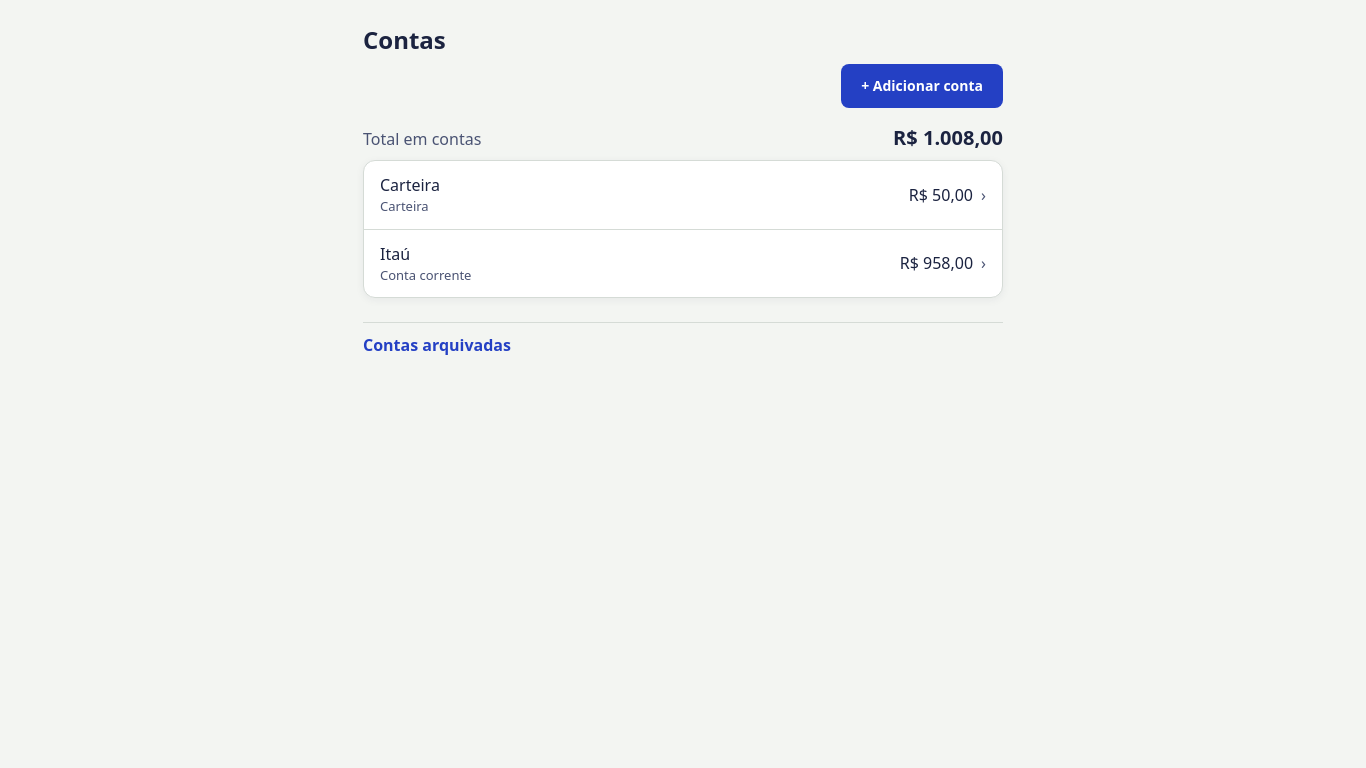
it: account options open in a sheet
Click the button with aria-label "Opções de Itaú": point(395, 254) [364, 230, 1002, 297]
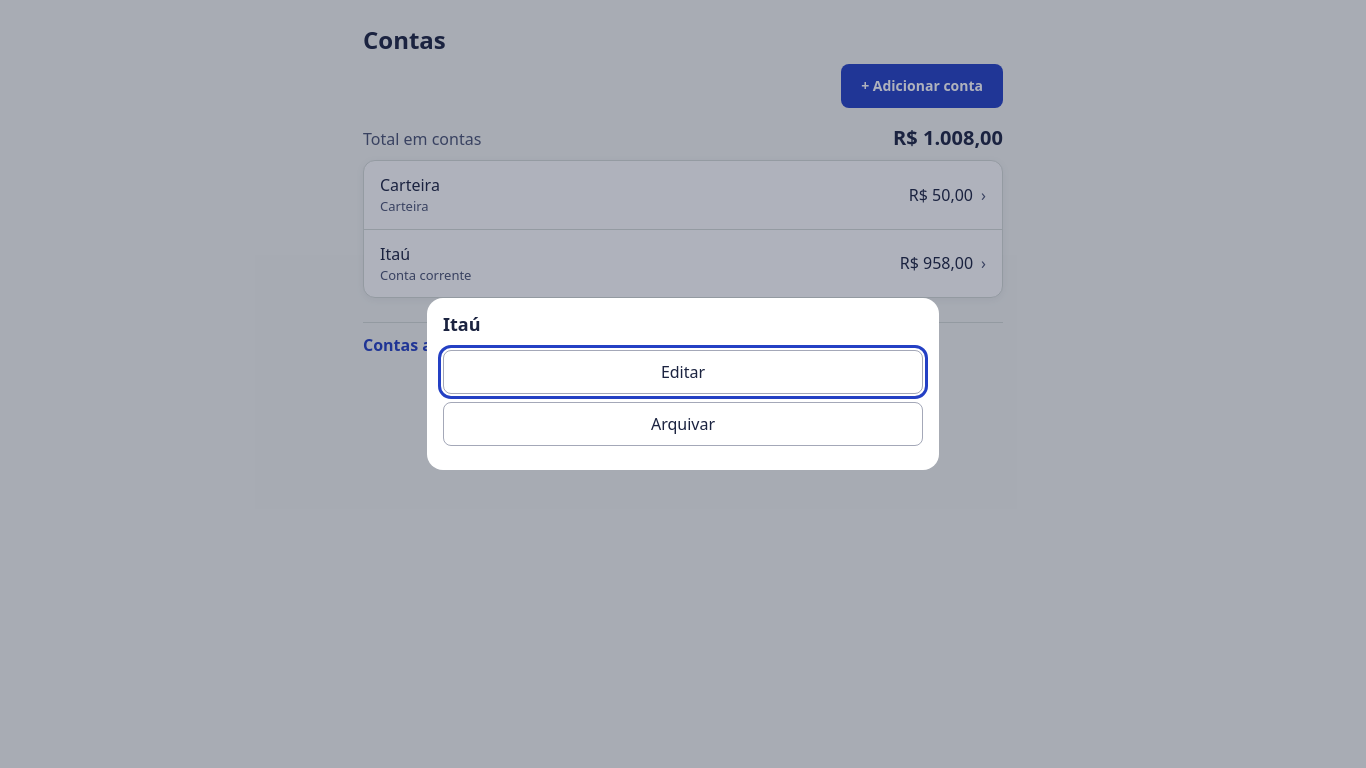
Check: the button "Editar" is shown, box [443, 350, 923, 394]
Check: the button "Arquivar" is shown, box [443, 402, 923, 446]
Press Escape
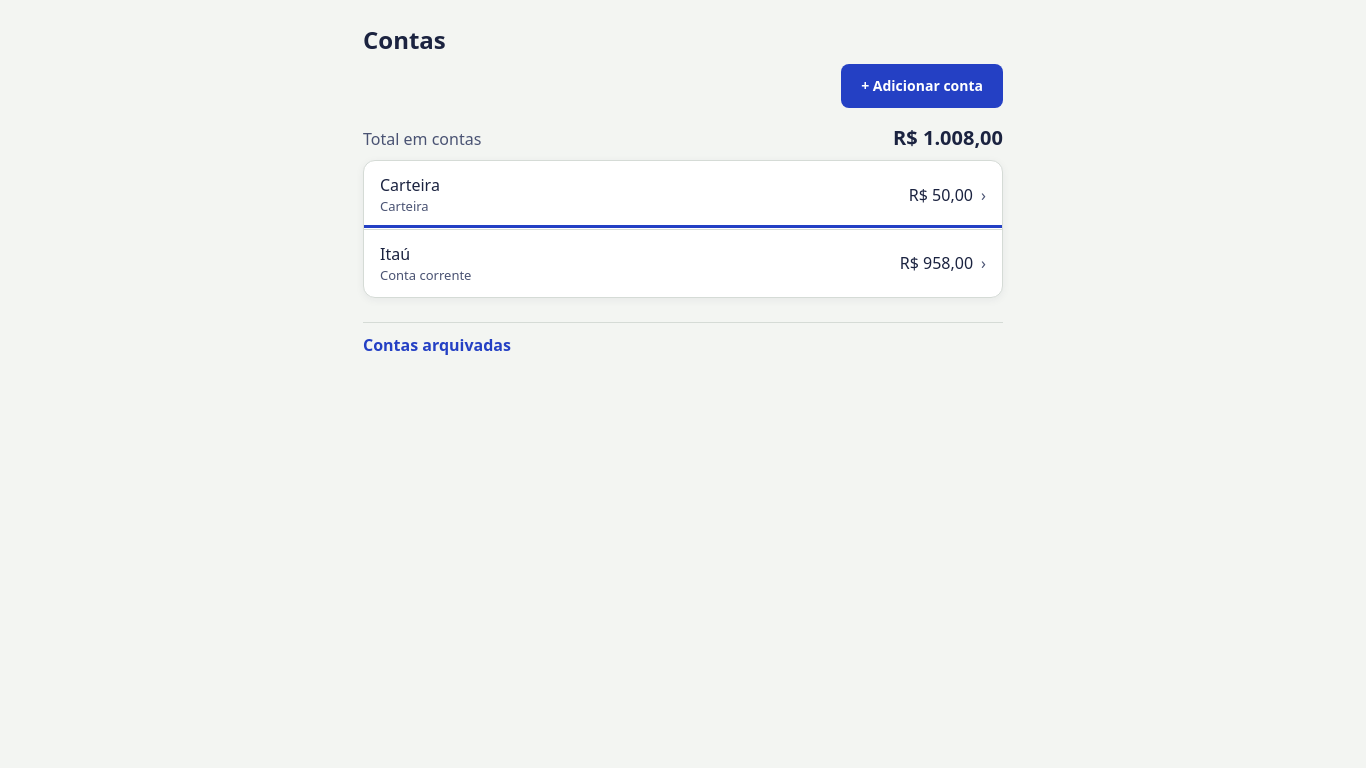
Check: the dialog is gone
